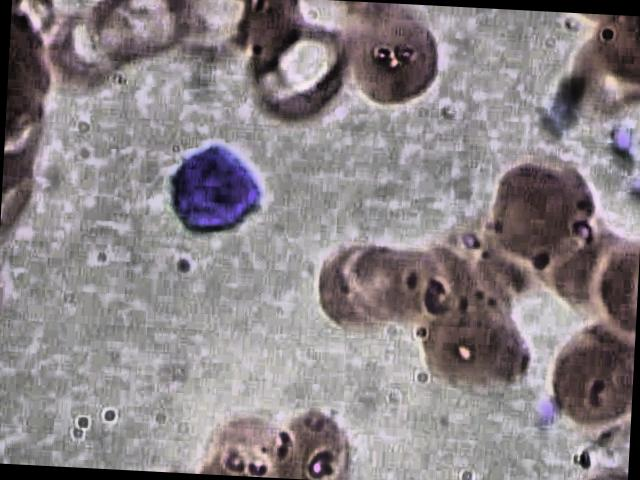Platelets: (605, 119, 640, 162), (525, 392, 560, 435), (620, 170, 640, 212)
RBC: (486, 152, 598, 279), (414, 288, 538, 400), (242, 16, 348, 132), (546, 316, 636, 432), (338, 15, 450, 106), (314, 231, 406, 331), (43, 0, 138, 95), (85, 0, 198, 78), (198, 402, 288, 478), (267, 405, 357, 480)
WBC: (152, 126, 280, 255)
